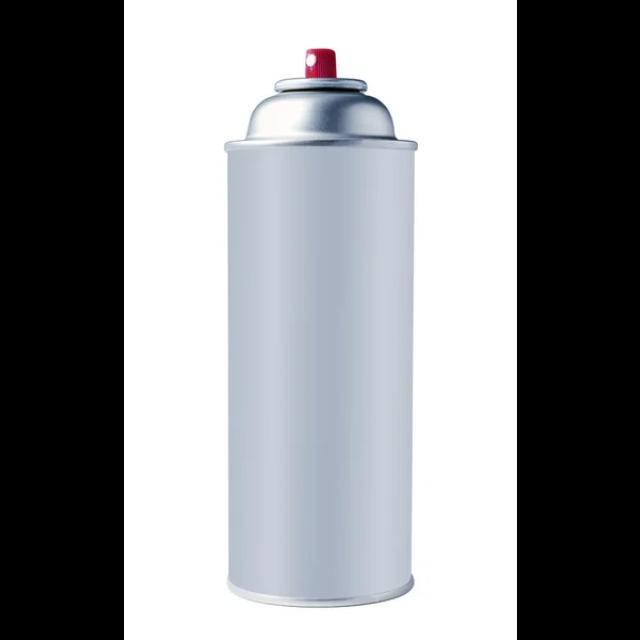chemical_spray_can: (224, 48, 416, 607)
